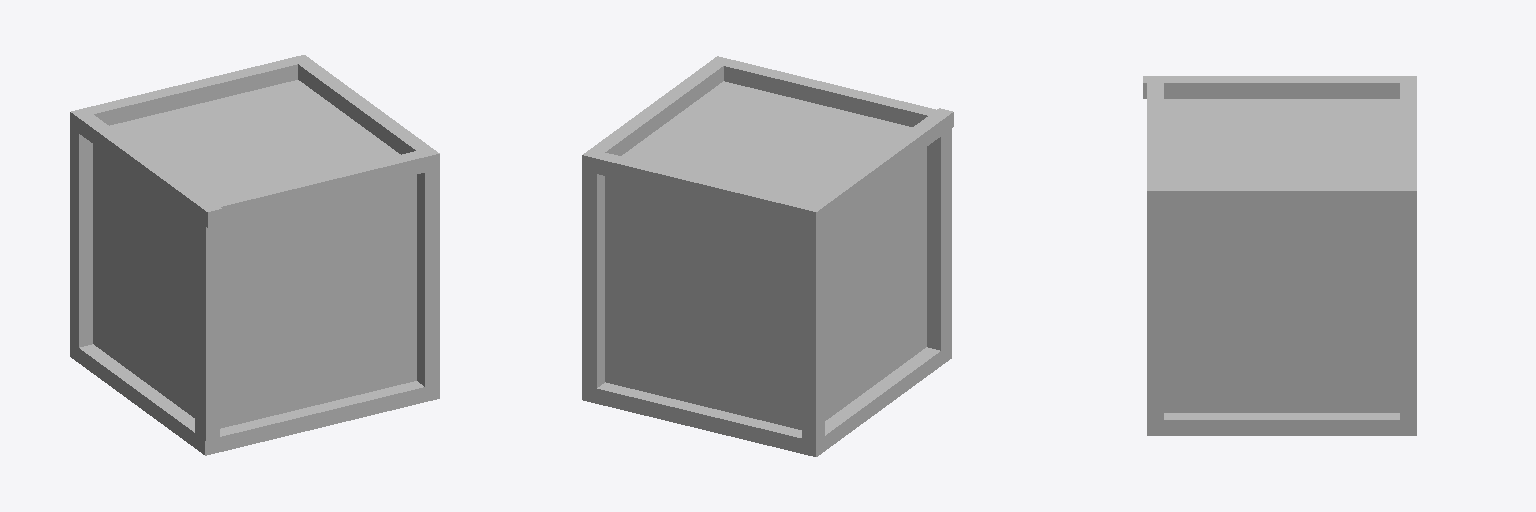
File: sintezator.obj
3 views of the same model, side by side, from view 1: azimuth 30°, elevation 25°; view 2: azimuth 150°, elevation 25°; view 3: azimuth 270°, elevation 25° (orthographic).
Parts seen in each view (by area): view 1: cube.029, cube.032, cube.033, cube.031, cube.034, cube.027, cube.036, cube.035, cube.037, cube.025; view 2: cube.029, cube.032, cube.031, cube.030, cube.036, cube.028, cube.034, cube.035, cube.037, cube.025; view 3: cube.029, cube.037, cube.026, cube.035, cube.030, cube.033, cube.034, cube.036.
Boxes of the visible parts, box(x1,y1,x2,y2) form: cube.029: box(93, 80, 416, 428); cube.032: box(195, 219, 219, 440); cube.033: box(417, 169, 439, 386); cube.031: box(70, 127, 92, 347); cube.034: box(212, 151, 424, 221); cube.027: box(220, 381, 424, 451); cube.036: box(85, 58, 297, 125); cube.035: box(70, 108, 221, 227); cube.037: box(290, 55, 439, 171); cube.025: box(70, 342, 219, 455); cube.029: box(605, 81, 926, 429); cube.032: box(927, 129, 951, 350); cube.031: box(802, 222, 824, 441); cube.030: box(582, 171, 604, 387); cube.036: box(597, 153, 809, 223); cube.028: box(597, 382, 801, 453); cube.034: box(724, 60, 935, 126); cube.035: box(802, 108, 953, 227); cube.037: box(582, 56, 730, 173); cube.025: box(802, 343, 951, 456); cube.029: box(1164, 99, 1399, 412); cube.037: box(1147, 183, 1416, 205); cube.026: box(1147, 413, 1416, 435); cube.035: box(1143, 76, 1416, 98); cube.030: box(1400, 206, 1416, 419); cube.033: box(1147, 206, 1163, 419); cube.034: box(1147, 83, 1163, 182); cube.036: box(1400, 83, 1416, 182).
Bounding box in the file's own units: 1 × 1 × 1.02.